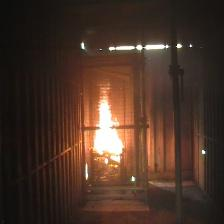fire: (90, 88, 129, 180)
